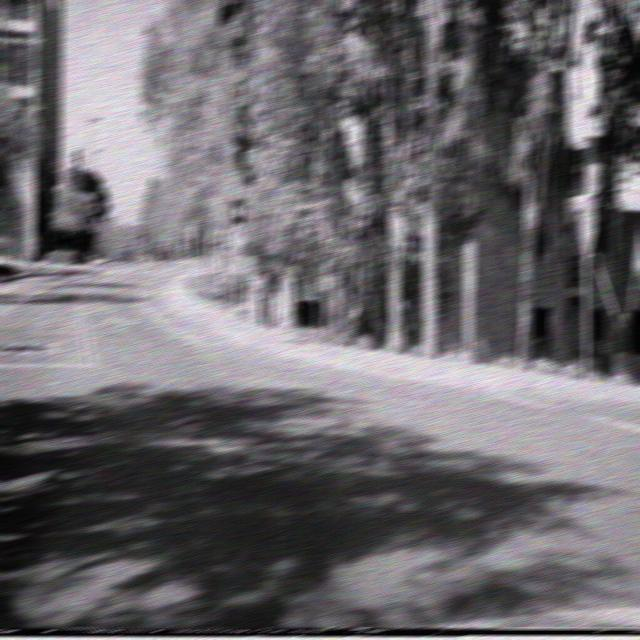pedestrianCrossing: (226, 219, 247, 255)
